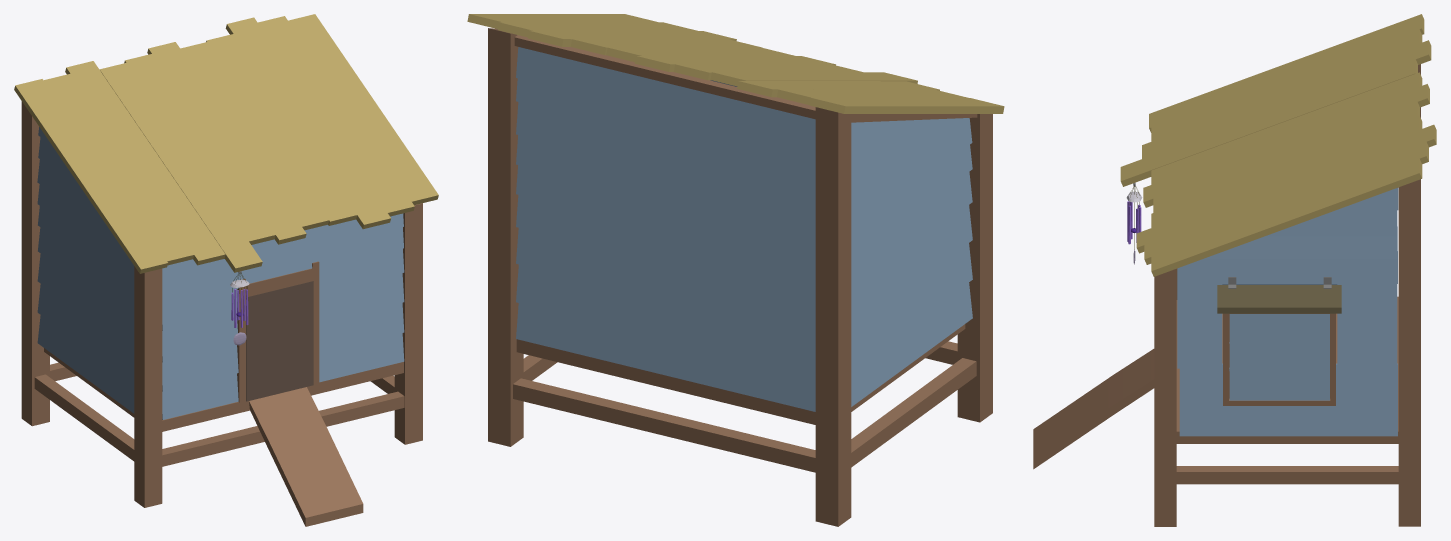
File: Chicken_Coop_04.fbx
3 views of the same model, side by side, from view 1: azimuth 30°, elevation 25°; view 2: azimuth 150°, elevation 25°; view 3: azimuth 270°, elevation 25° (orthographic). The views are drawn at different scales.
Visible parts, largest first — view 1: Chicken_coop4_Combined; view 2: Chicken_coop4_Combined; view 3: Chicken_coop4_Combined.
Boxes of the visible parts, box(x1,y1,x2,y2) form: Chicken_coop4_Combined: box(14, 14, 438, 526); Chicken_coop4_Combined: box(467, 14, 1004, 526); Chicken_coop4_Combined: box(1033, 14, 1436, 526).
Bounding box in the file's own units: 604 × 618 × 610.
